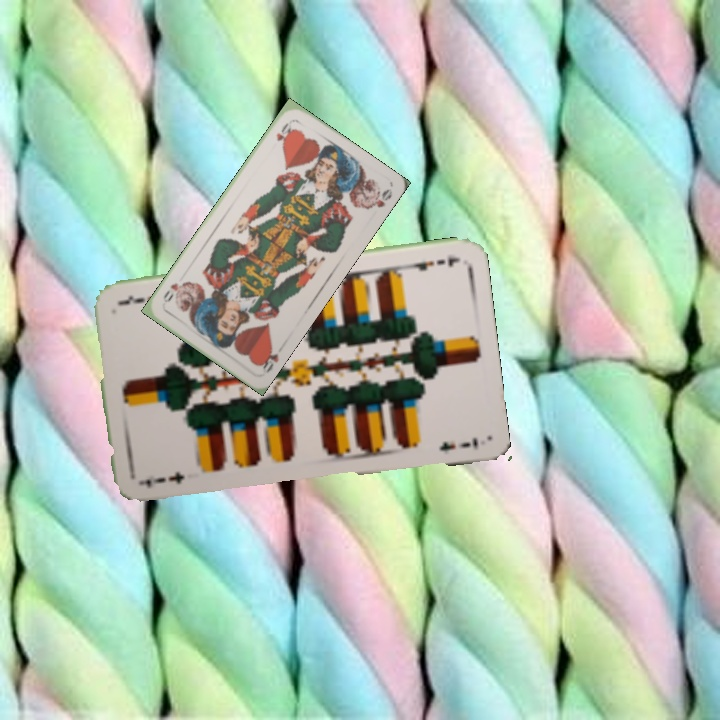E7: (402, 253, 462, 274), (136, 468, 188, 491)
HO: (255, 341, 281, 377), (272, 119, 294, 147)
